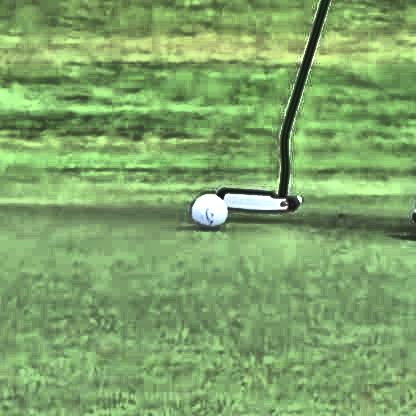golfball: (189, 186, 225, 223)
